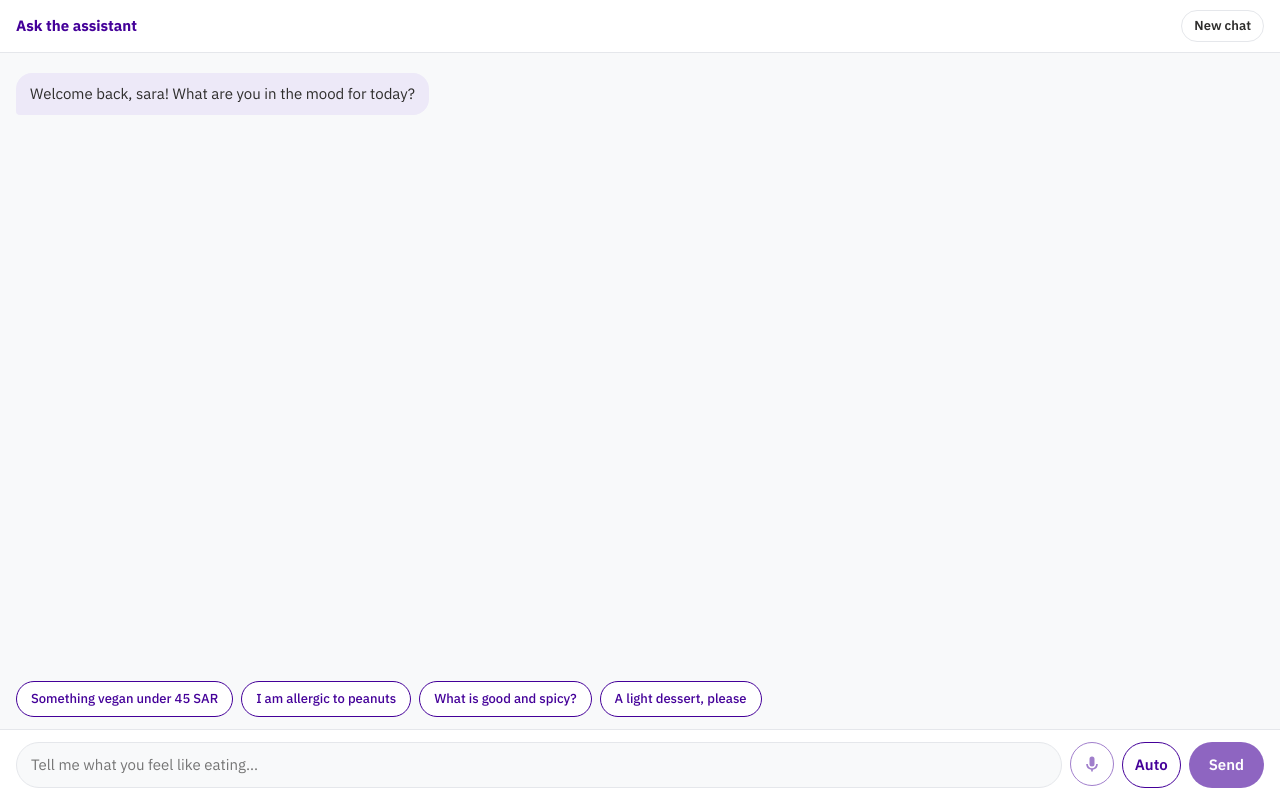
Test: ChatPanel › errors that a resend cannot fix show no Retry
Type "hi" into the field named "Message" at (539, 765), box [16,742,1062,788]
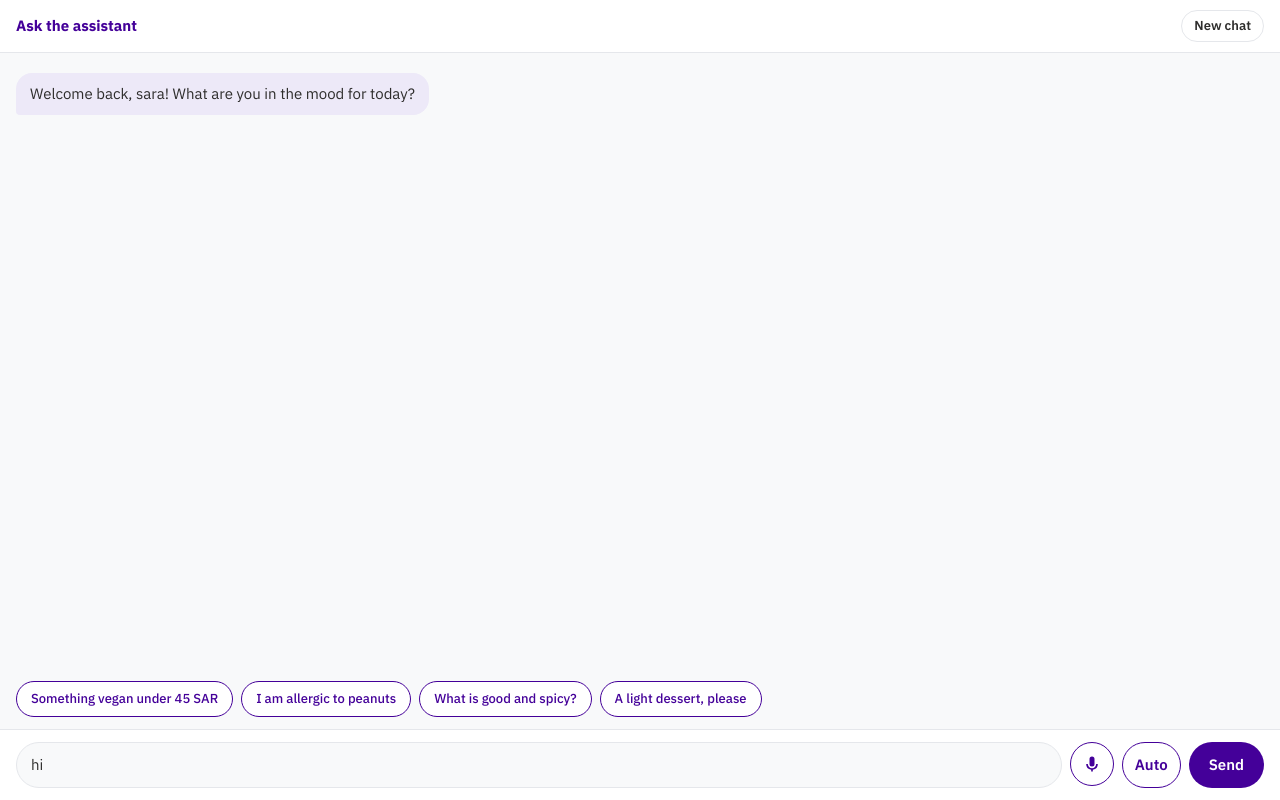
expect the button "Send" is enabled: met
Click the button "Send" at (1226, 765), box [1189,742,1264,788]
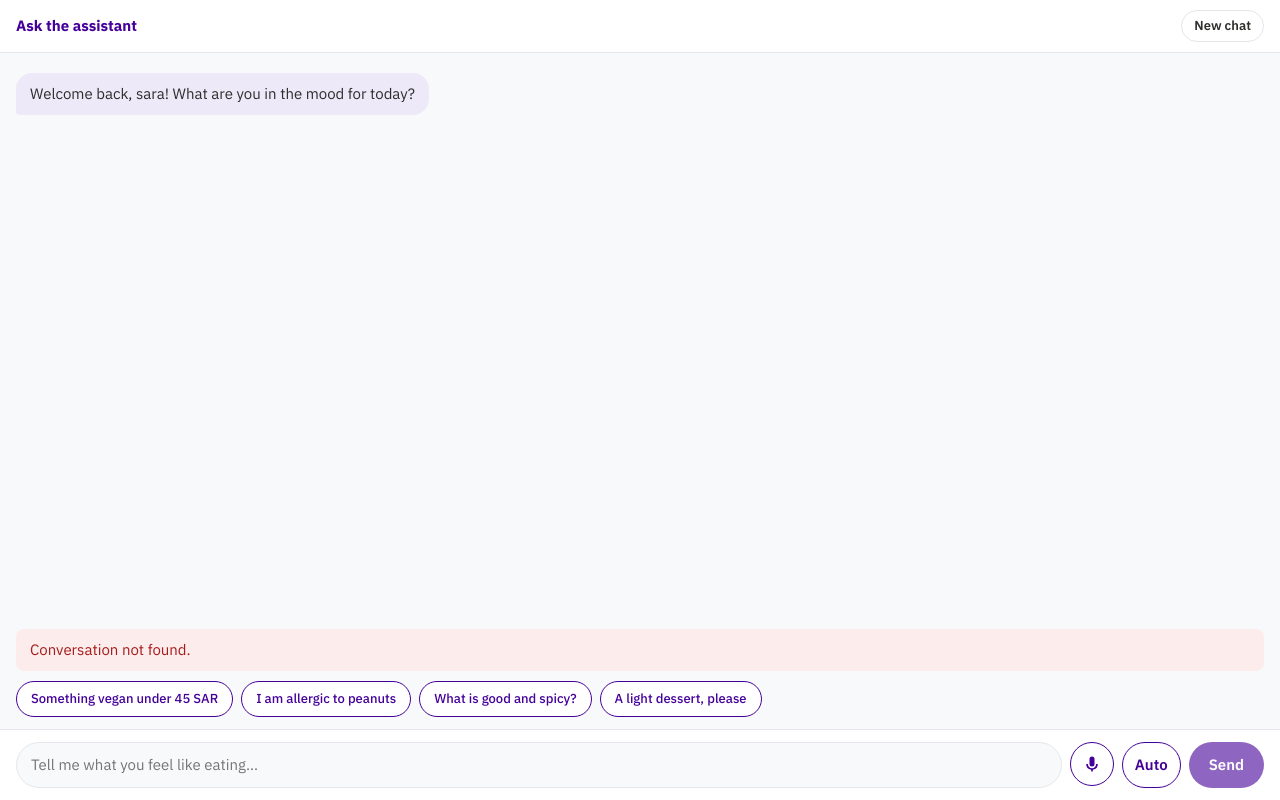
expect the message reads "Conversation not found.": met, box [30,640,191,658]
